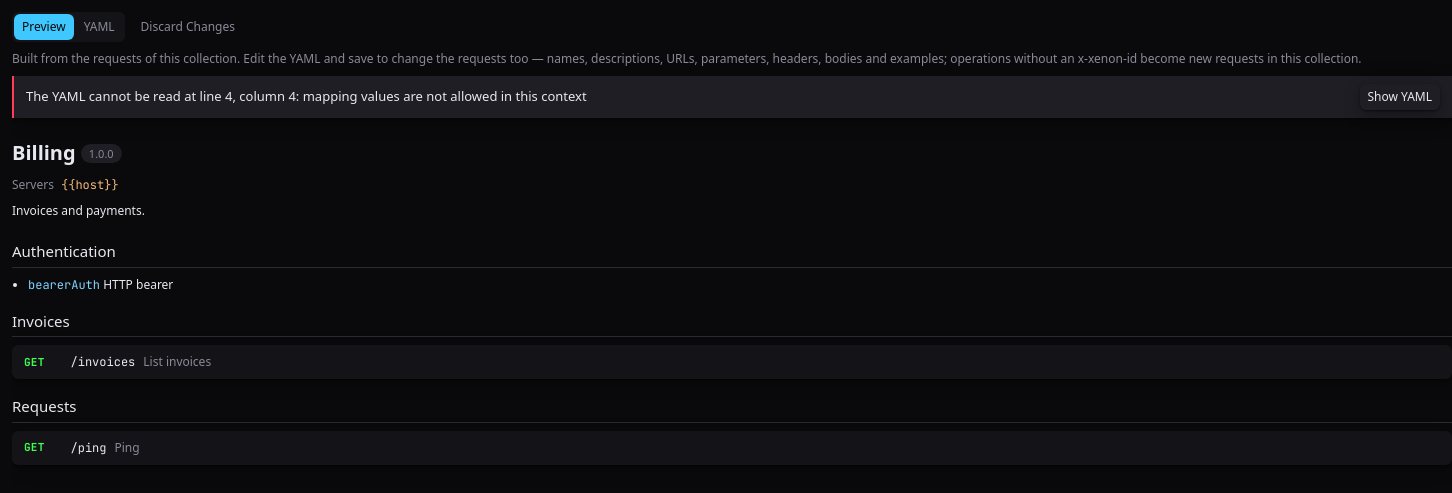
Test: DocumentationPanel › shows where the edited YAML cannot be read and marks it in the editor
Expected: the message shows "The YAML cannot be read at line 4, column 4: mapping values are not allowed in this context", 12,76 -> 1451,118
Click the button "Show YAML".
click(1400, 97)  # box 1360,84 -> 1440,110
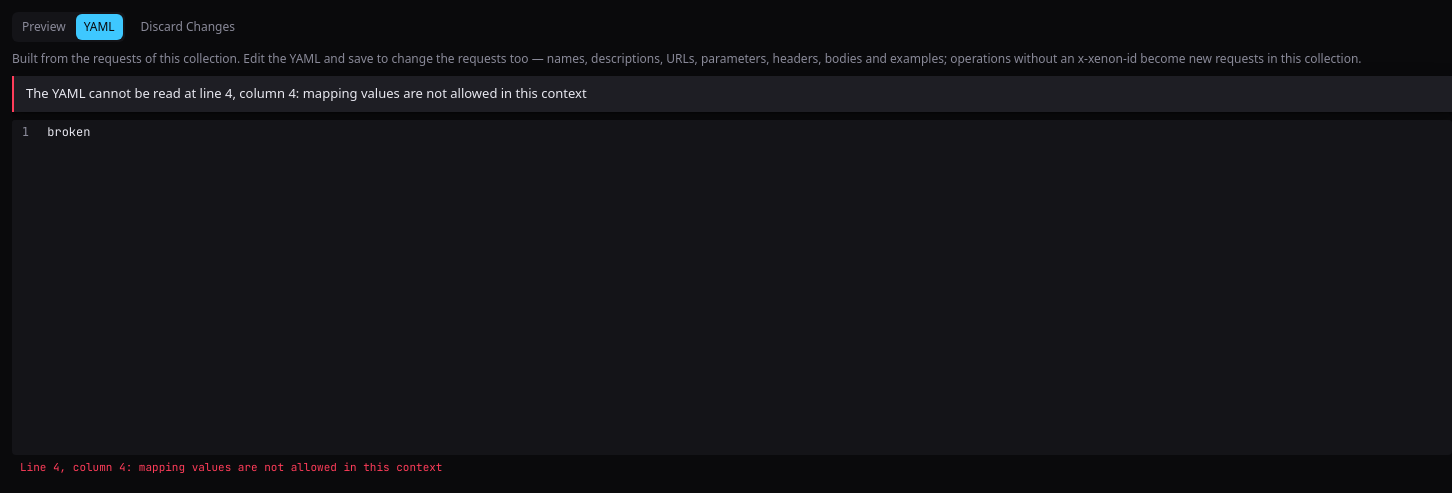
Now the list named "OpenAPI document problems" reads "Line 4, column 4: mapping values are not allowed in this context", box 20,460 -> 442,474
Click the button "Discard Changes".
click(188, 27)  # box 133,14 -> 243,40
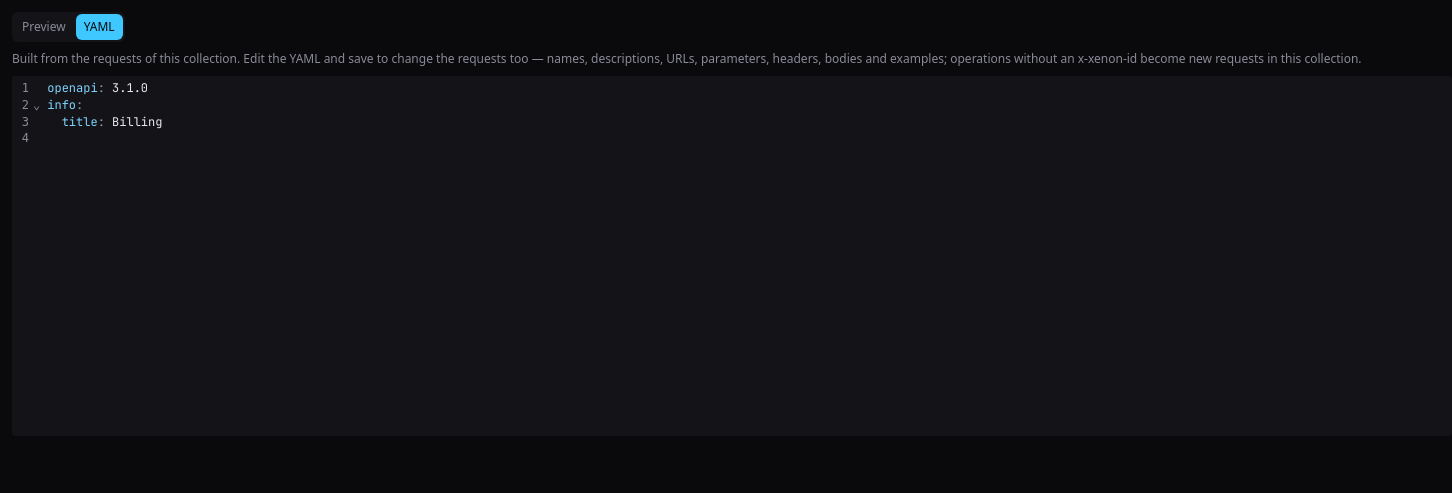
Now the message is gone
